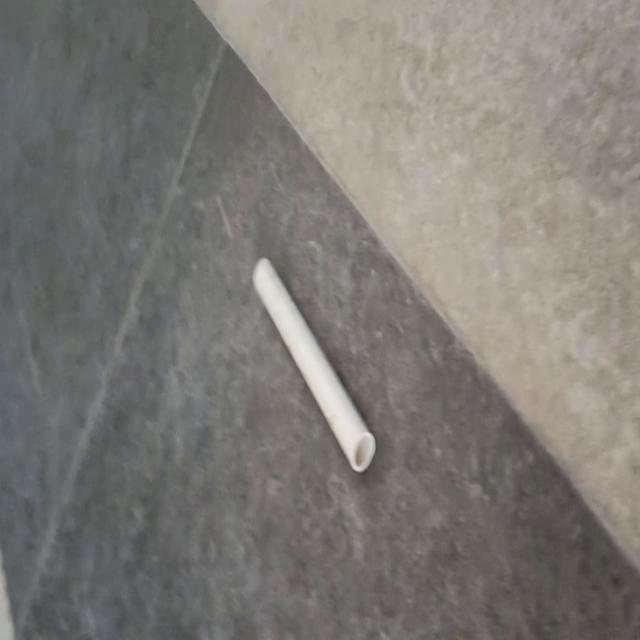Cube: (251, 254, 377, 475)
